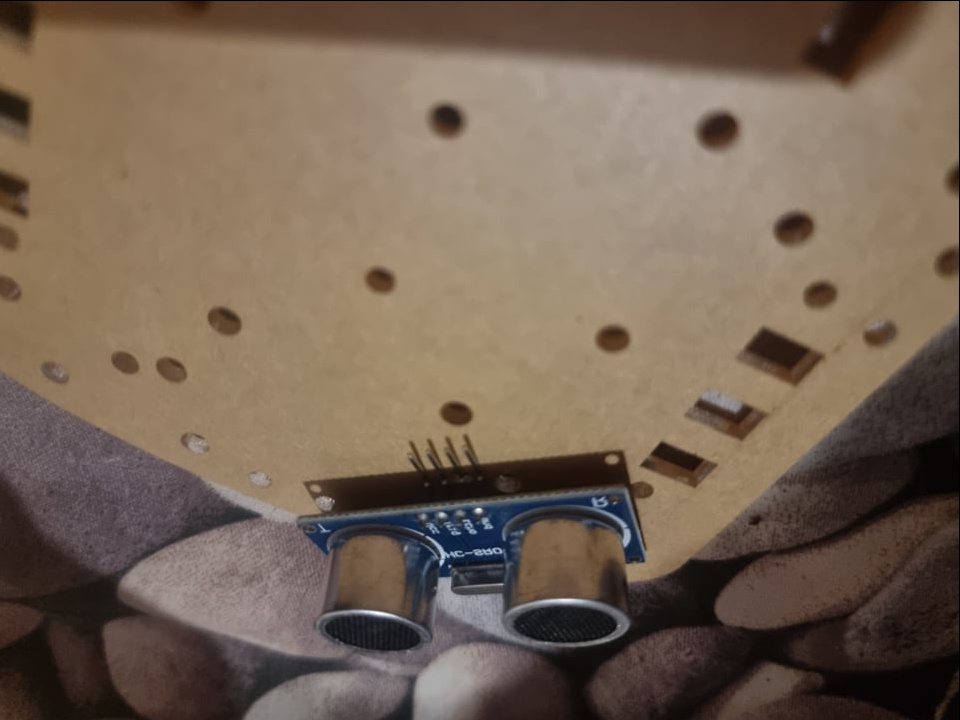SENSOR: (296, 482, 651, 657)
